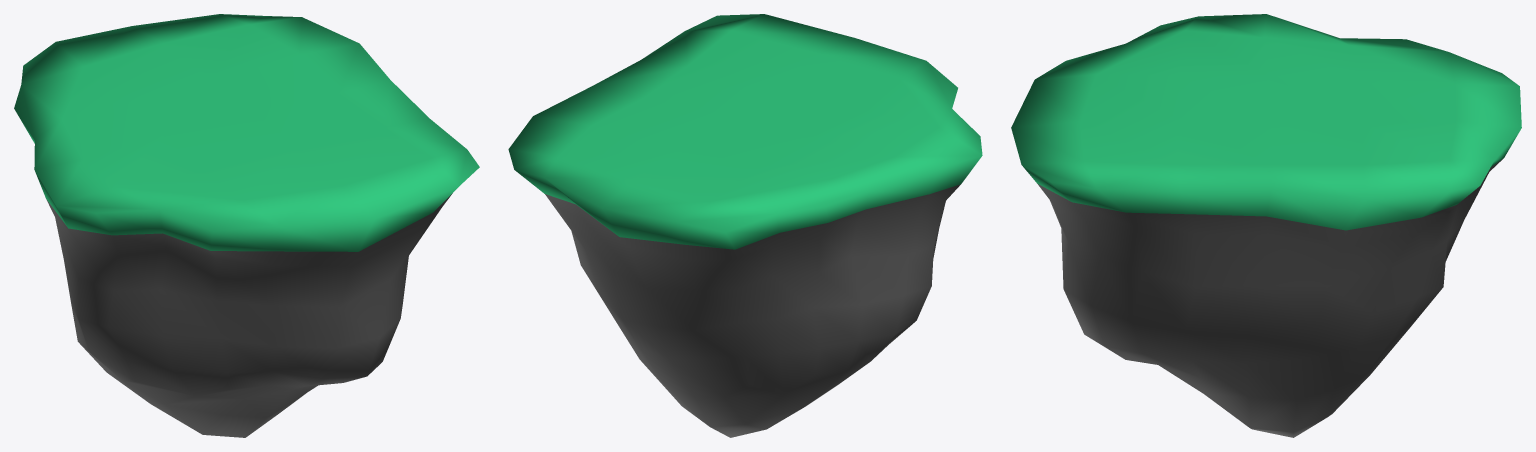
File: IslandSmallSolidCollider.fbx
3 views of the same model, side by side, from view 1: azimuth 30°, elevation 25°; view 2: azimuth 150°, elevation 25°; view 3: azimuth 270°, elevation 25° (orthographic). The views are drawn at different scales.
Parts seen in each view (by area): view 1: IslandSmallSolid_Model; view 2: IslandSmallSolid_Model; view 3: IslandSmallSolid_Model.
Boxes of the visible parts, <box> form: IslandSmallSolid_Model: <box>14,14,479,437</box>; IslandSmallSolid_Model: <box>508,14,982,437</box>; IslandSmallSolid_Model: <box>1011,14,1521,437</box>.
Bounding box in the file's own units: 1052 × 845 × 1194.
